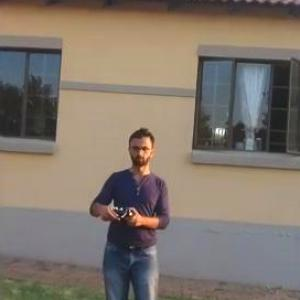follow: (80, 118, 176, 299)
